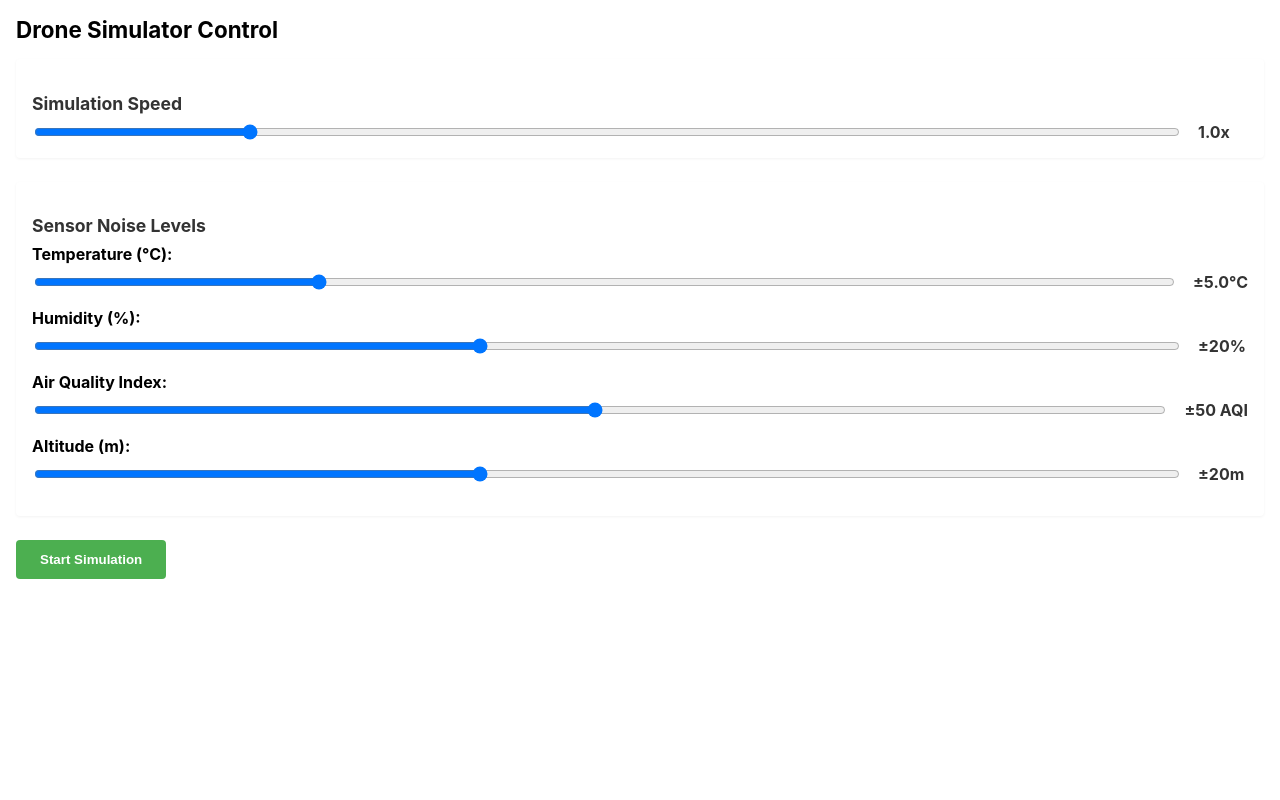
Test: SimulatorControl Component › starts simulation with correct configuration
The width and height of the screenshot is (1280, 800).
// Get all sliders and update their values
Set the slider next to "1.0" to "3.0": (711, 132) [34,124,1180,140]
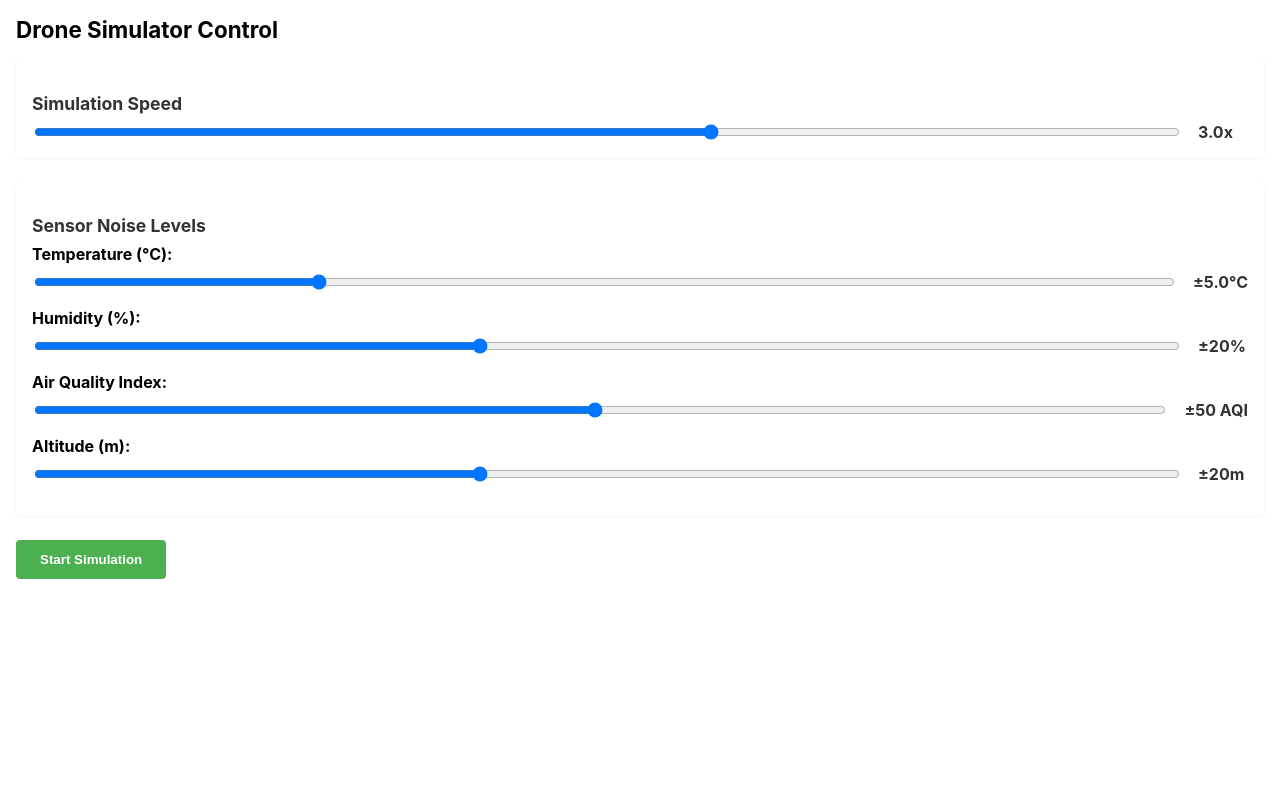
Set the slider next to "5.0" to "7.5": (460, 282) [34,274,1175,290]
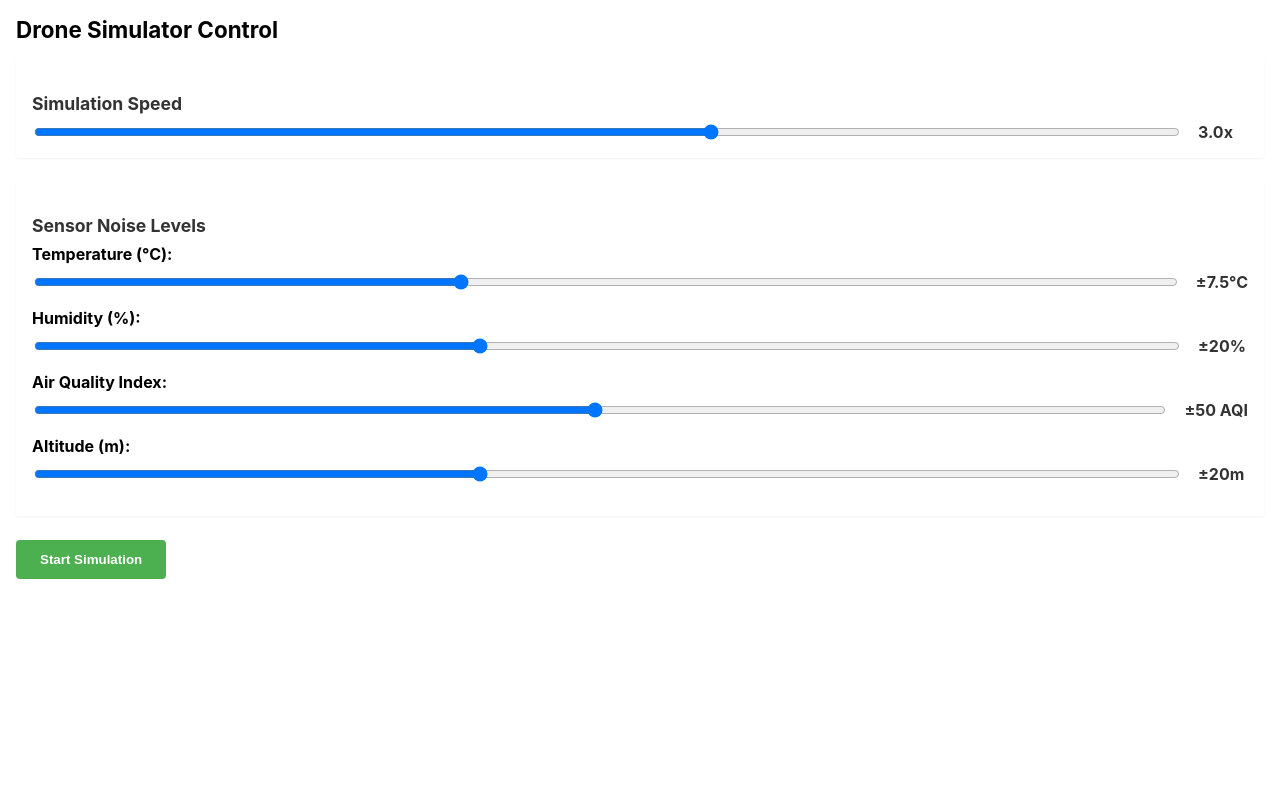
// Click the start button
Click the button "Start Simulation": (91, 560) [16,540,166,579]
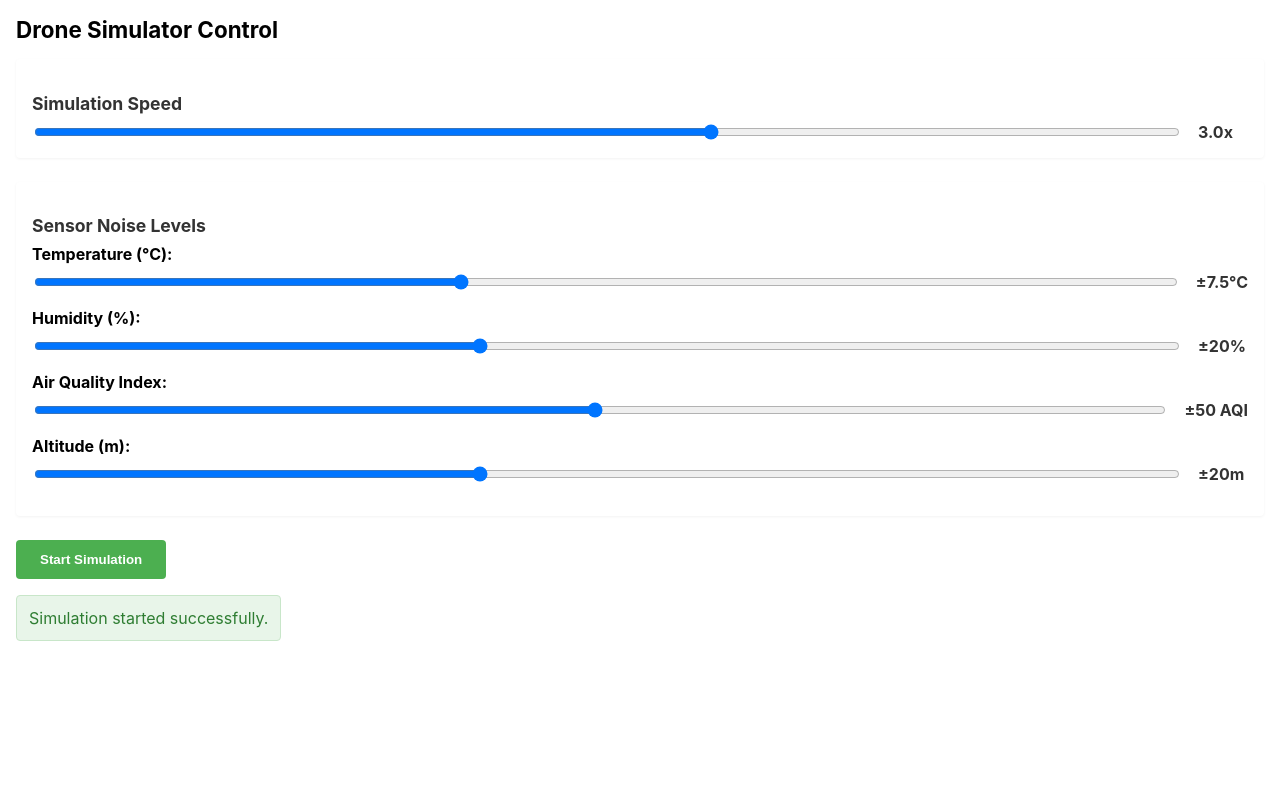
Expected: the text "Simulation started successfully." is shown, [16,595,281,641]
